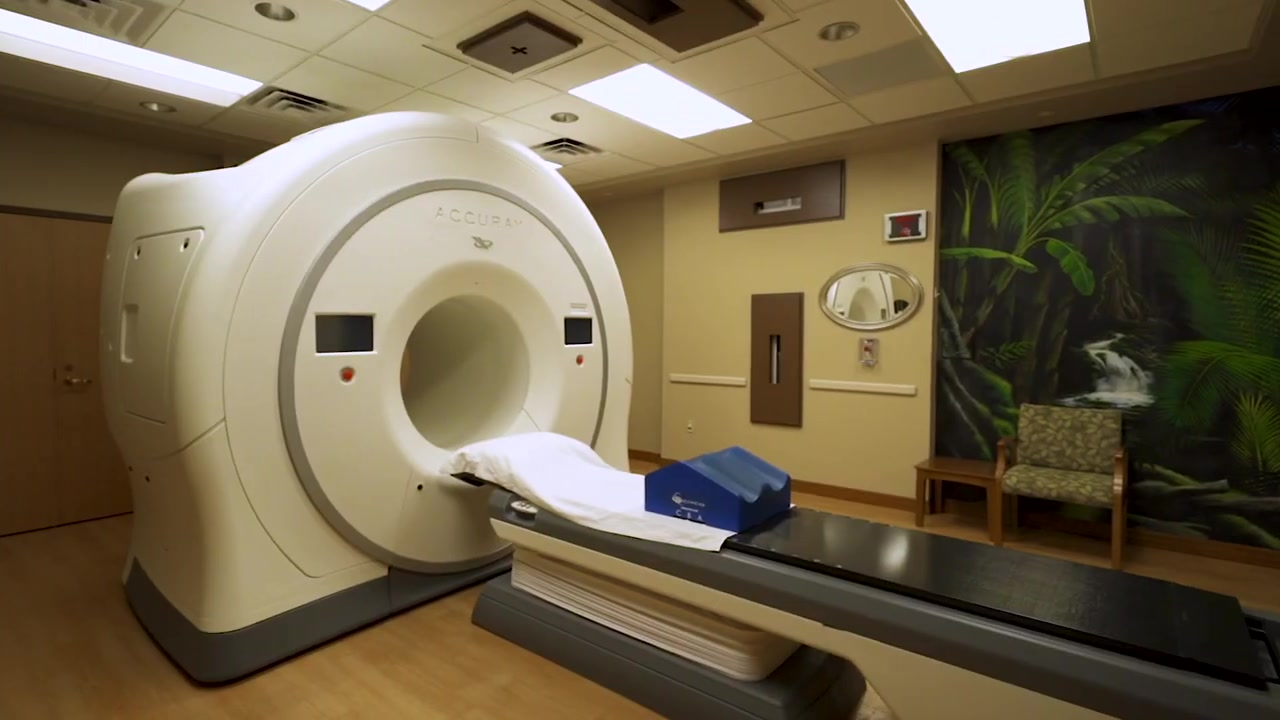chair: (994, 401, 1128, 569)
door_handle: (64, 373, 94, 389)
table: (913, 455, 1011, 541)
xray_bed: (439, 433, 1278, 720)
xray_machine: (109, 125, 646, 671)
